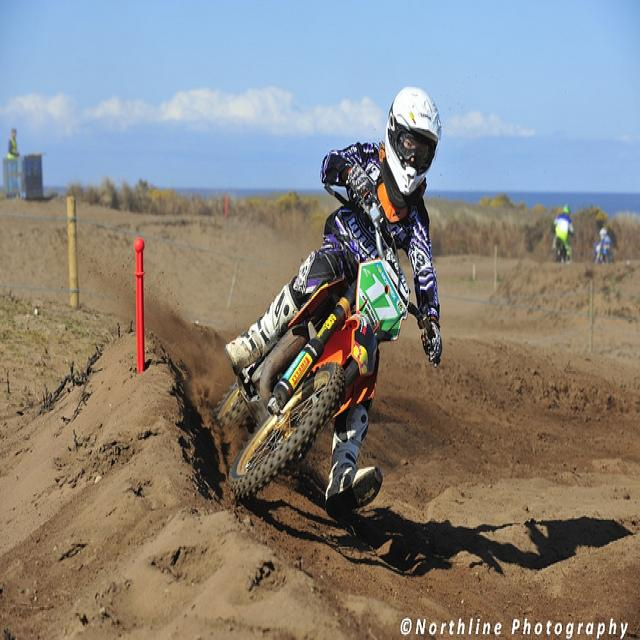motor: (213, 169, 436, 507), (553, 237, 573, 263), (590, 247, 615, 264)
